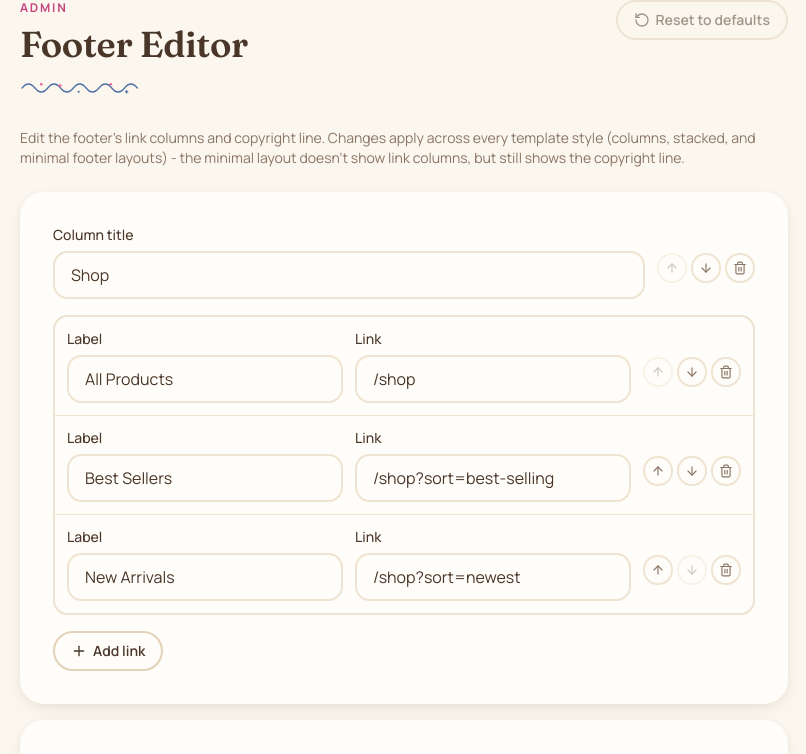
Test: FooterEditor › saves an edited column title and copyright line, and shows a confirmation
Replace the text in the 1st field labelled "Column title" with "Store" at [349, 275], box [53,251,645,299]
(page scrolled)
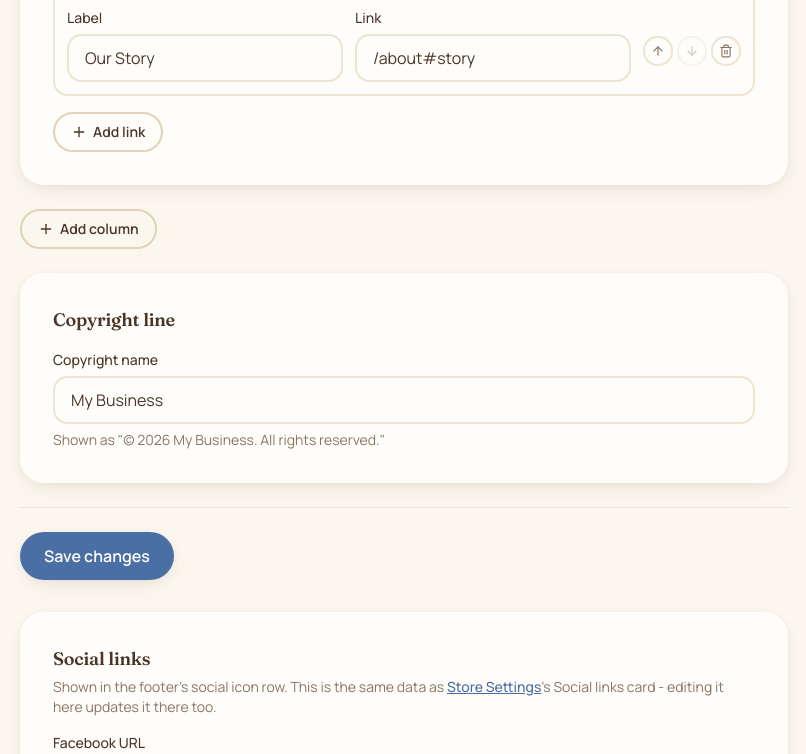
Replace the text in the field labelled "Copyright name" with "Acme Co" at [404, 400], box [53,376,755,424]
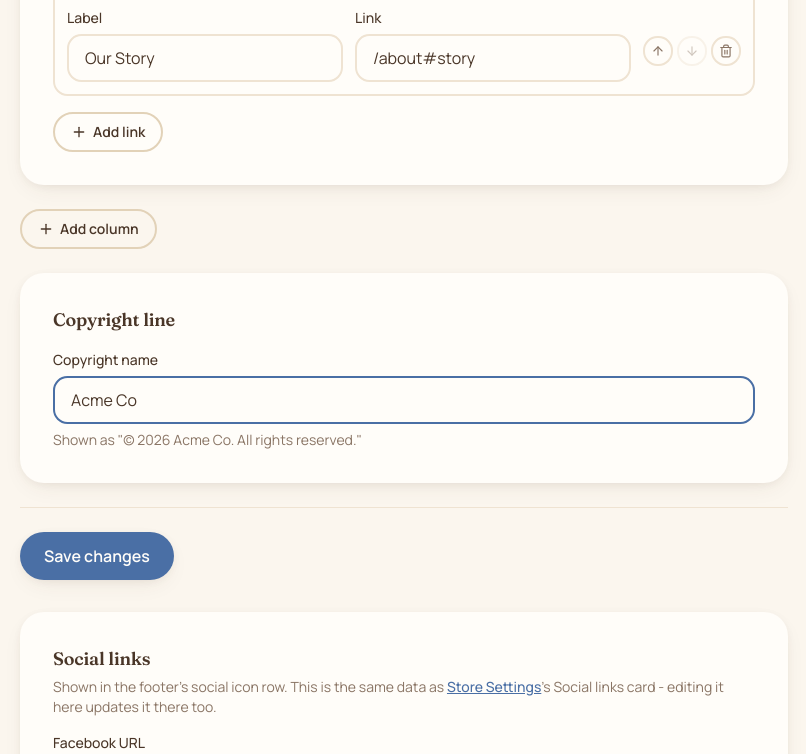
Click the button "Save changes" at [97, 556], box [20,532,174,580]
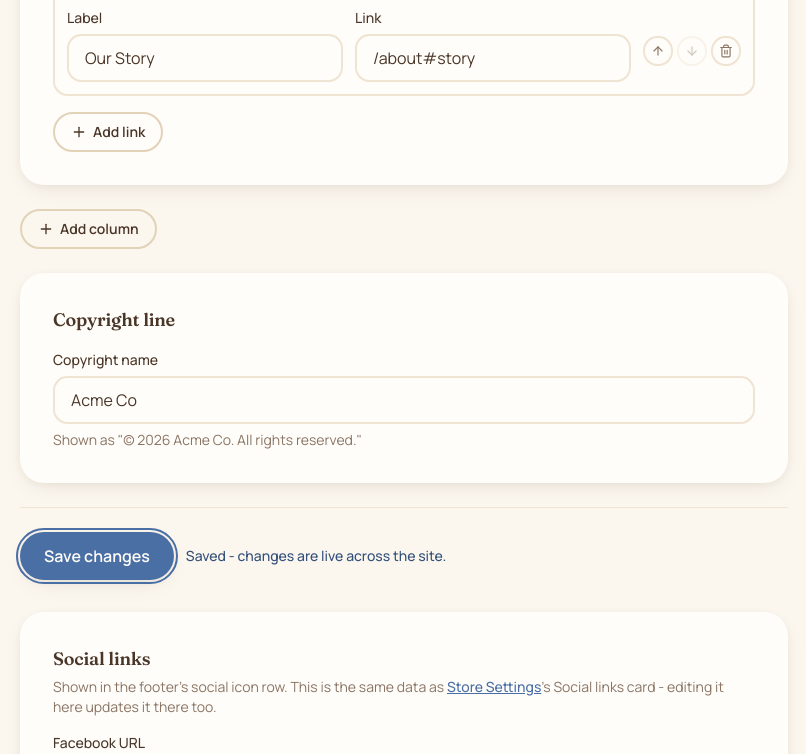
Result: the message shows "Saved" at [186,546,446,565]
